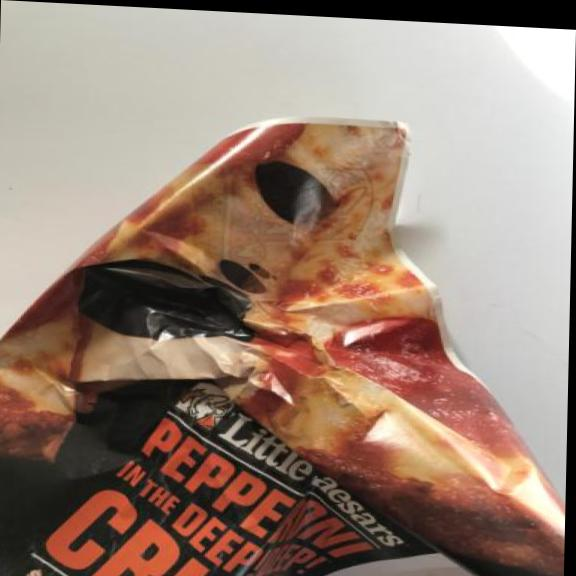Kertas: (0, 98, 574, 576)
